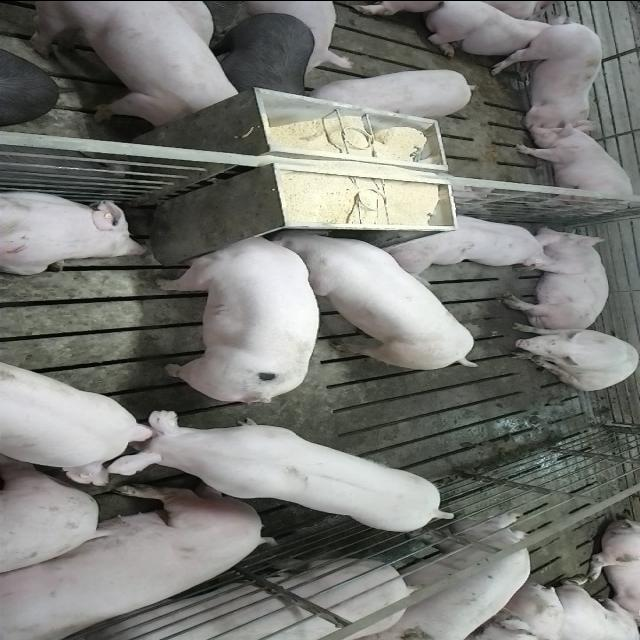Feeding: (273, 228, 480, 374), (152, 224, 320, 398)
Lateral_lying: (0, 482, 273, 636), (500, 224, 610, 332)
Sitting: (503, 326, 637, 390)
Standing: (105, 411, 453, 535), (60, 554, 418, 640), (19, 1, 244, 126), (361, 517, 538, 640), (0, 360, 153, 490), (490, 21, 607, 133), (508, 122, 636, 210), (312, 64, 479, 116), (215, 12, 317, 94)
Sternal_lying: (0, 187, 151, 275), (376, 208, 556, 272), (424, 1, 562, 56)
